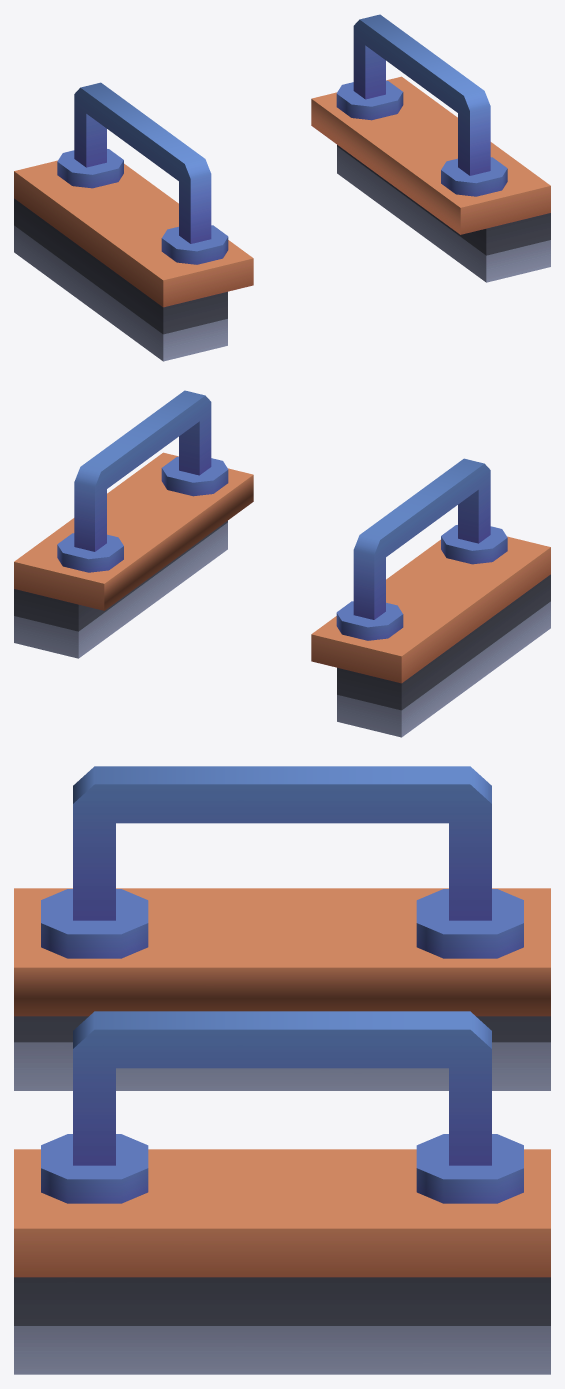
Rendered from station-fence.glb.
The picture shows the model from 3 angles, top to bottom: view 1: azimuth 30°, elevation 25°; view 2: azimuth 150°, elevation 25°; view 3: azimuth 270°, elevation 25°; orthographic projection. The views are drawn at different scales.
Parts seen in each view (by area): view 1: station-fence; view 2: station-fence; view 3: station-fence.
Boxes of the visible parts, x1,y1,x2,y2 form: station-fence: [14, 14, 550, 361]; station-fence: [14, 390, 550, 737]; station-fence: [14, 766, 550, 1374].
Size of the model in its own units: 1.5 by 0.6299 by 1.
1 material, 1 textured.
